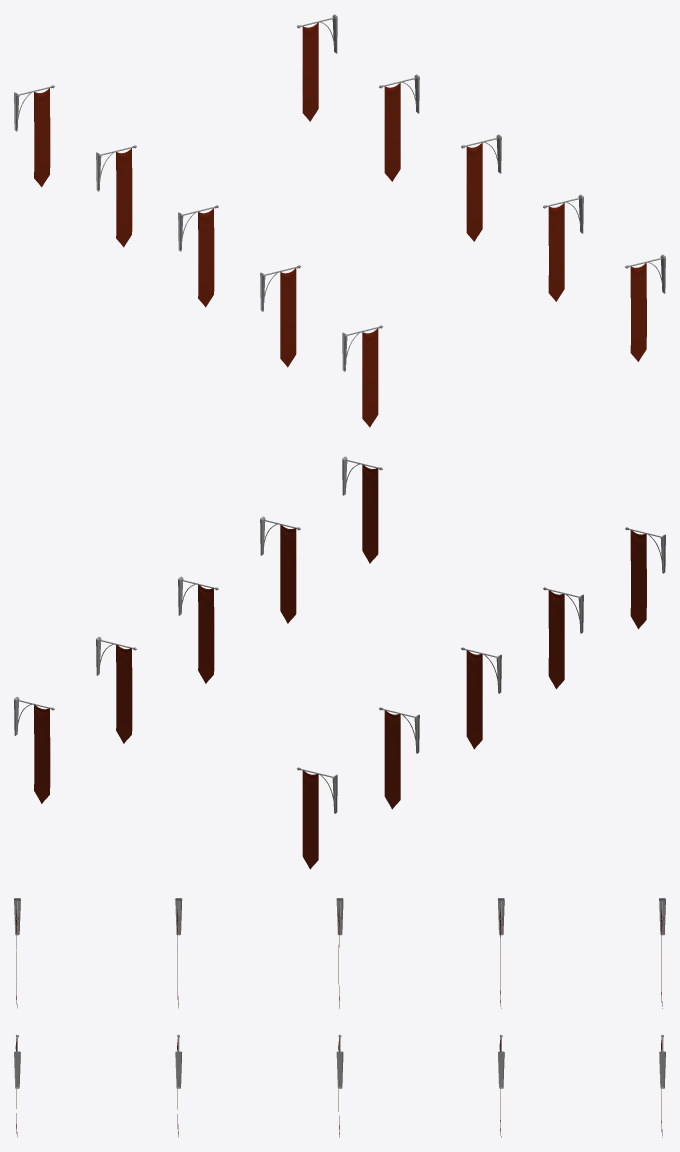
File: flag.FBX
3 renders of one model, top to bottom at view 1: azimuth 30°, elevation 25°; view 2: azimuth 150°, elevation 25°; view 3: azimuth 270°, elevation 25°, orthographic.
Parts seen in each view (by area): view 1: Flag; view 2: Flag; view 3: Flag.
Part boxes in pixels (left/top/right/bottom): Flag: left=14, top=14, right=665, bottom=427; Flag: left=14, top=456, right=665, bottom=869; Flag: left=14, top=898, right=665, bottom=1137.
Size of the model in its own units: 1815 by 543 by 3254.
